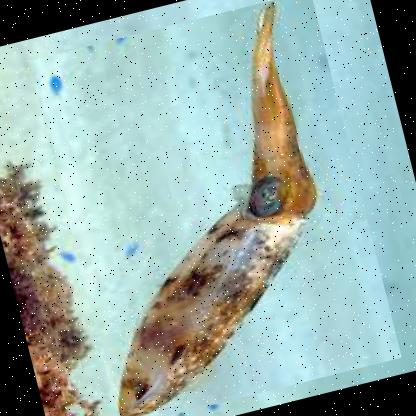colossal_squid: (28, 0, 403, 415)
